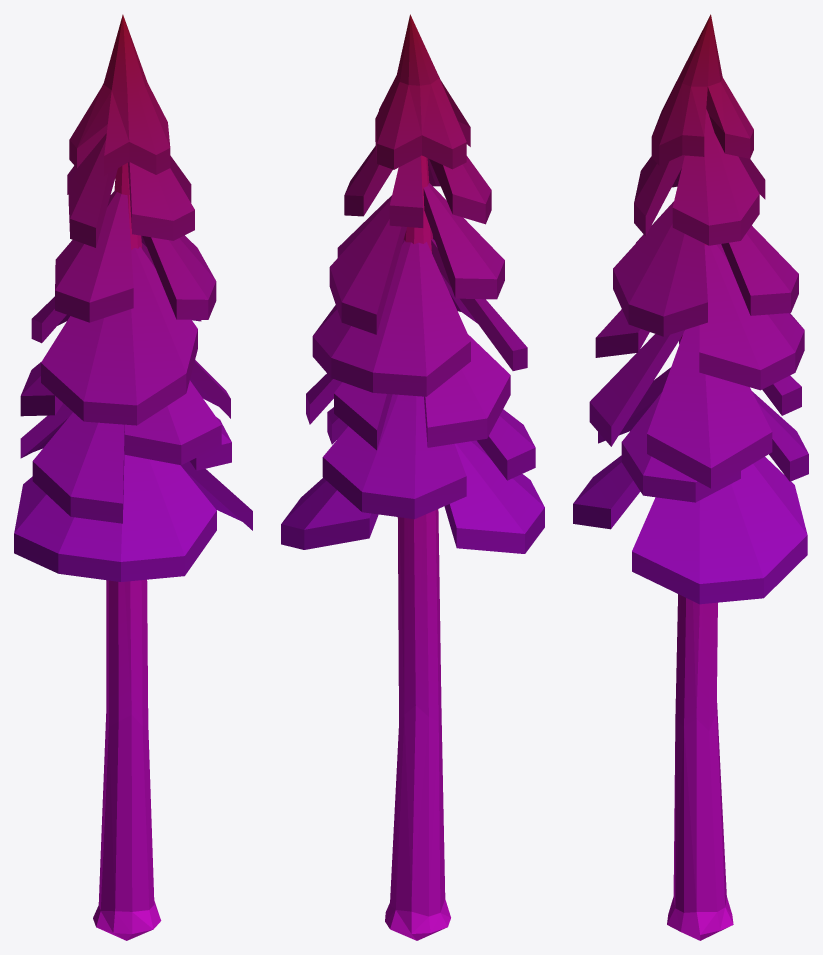
Rendered from SM_Tree_PolyPine_Sparse_02.gltf.
The picture shows the model from 3 angles, left to right: view 1: azimuth 30°, elevation 25°; view 2: azimuth 150°, elevation 25°; view 3: azimuth 270°, elevation 25°; orthographic projection.
Parts seen in each view (by area): view 1: SM_Tree_PolyPine_Sparse_02; view 2: SM_Tree_PolyPine_Sparse_02; view 3: SM_Tree_PolyPine_Sparse_02.
Boxes of the visible parts, x1,y1,x2,y2 form: SM_Tree_PolyPine_Sparse_02: (14, 14, 252, 940); SM_Tree_PolyPine_Sparse_02: (281, 14, 544, 940); SM_Tree_PolyPine_Sparse_02: (573, 14, 808, 940).
Size of the model in its own units: 1.48 by 5.78 by 1.33.
